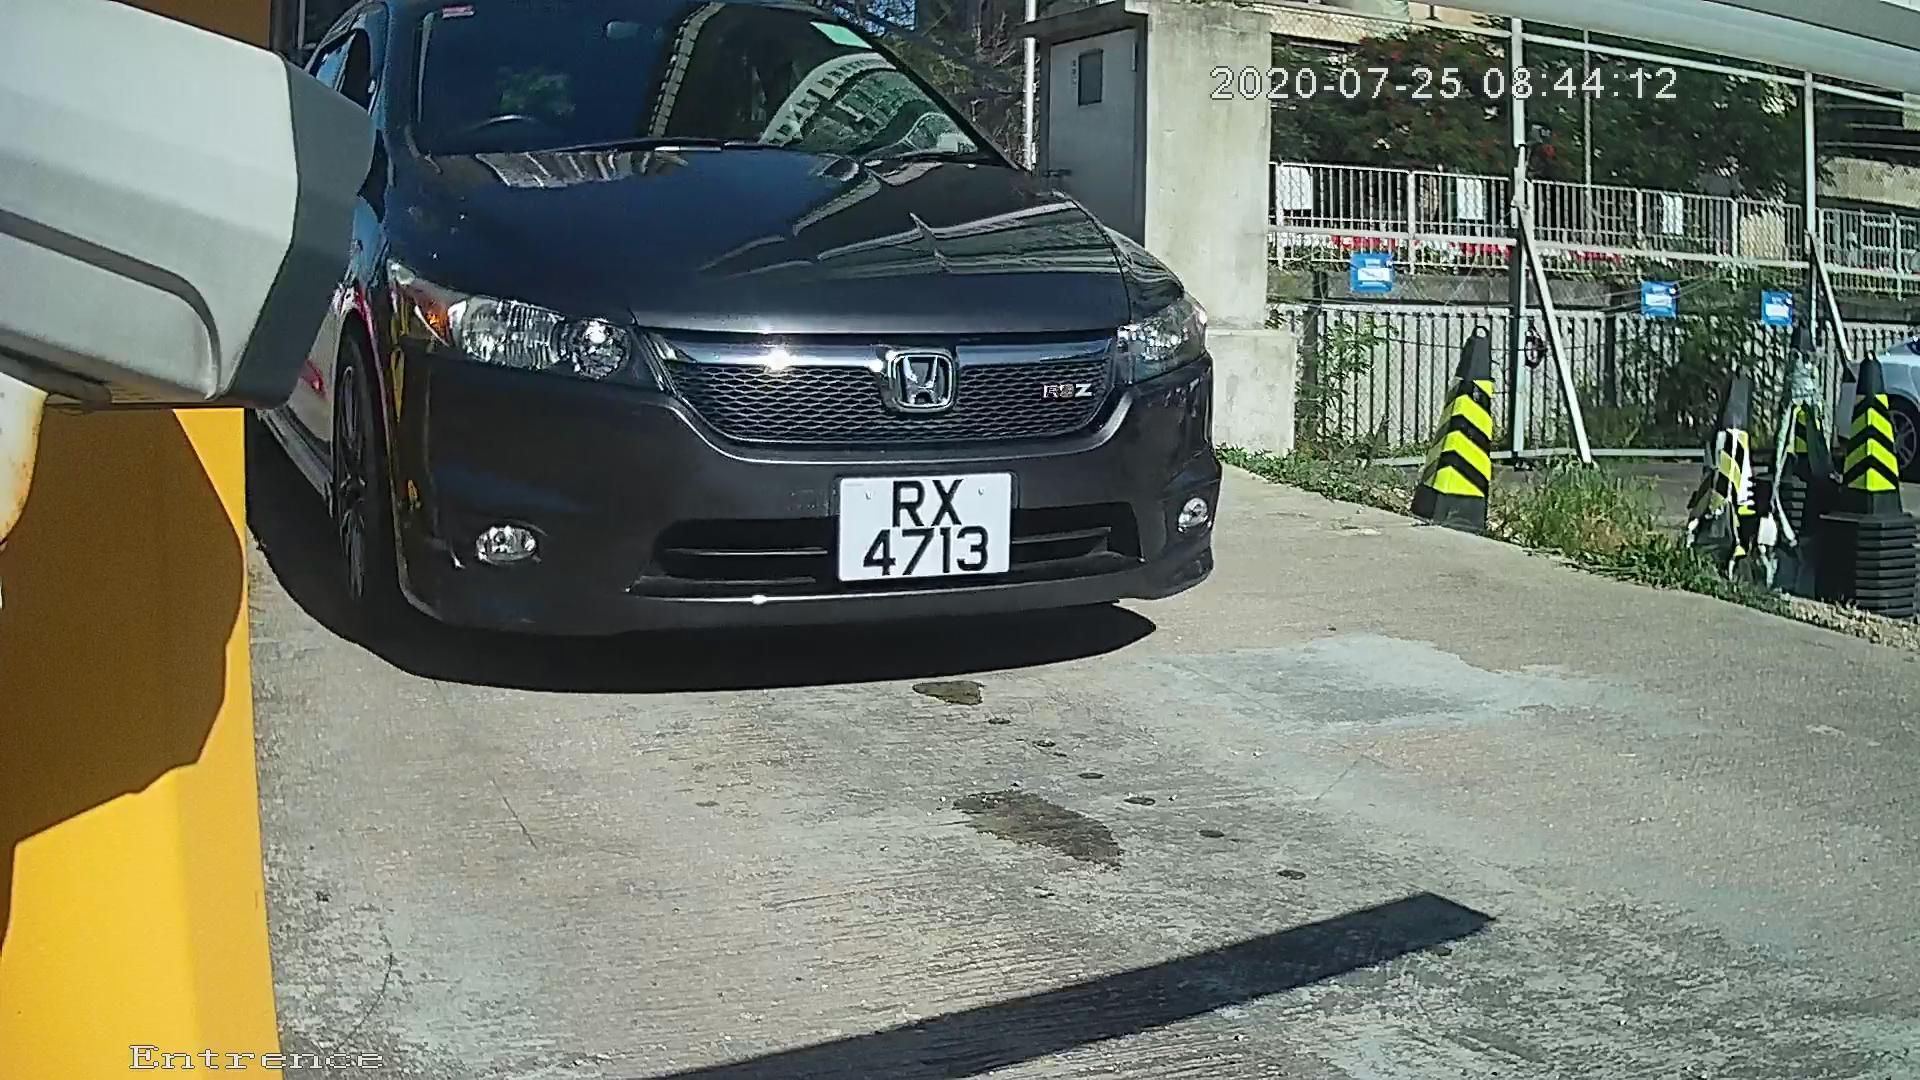Car: (52, 1, 1355, 757)
License Plate: (806, 463, 1038, 594)
